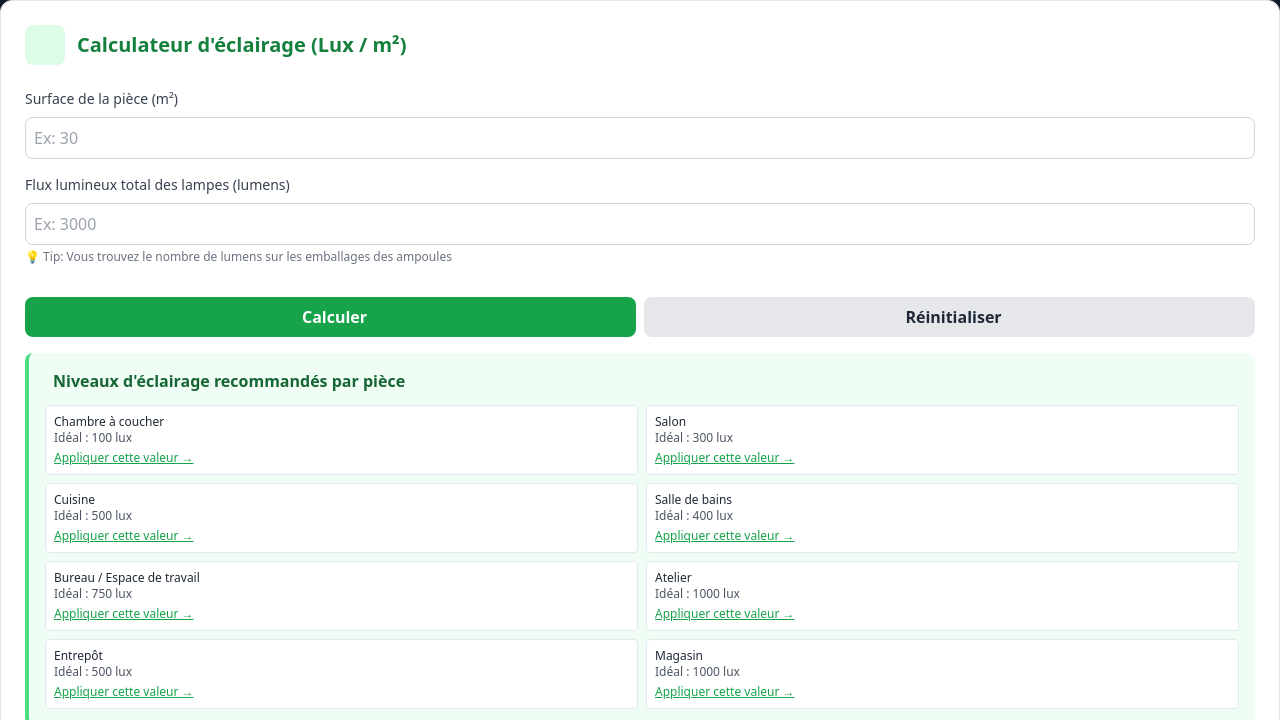
Scenario: LightingCalculator › shows "poor" adequacy for low lux levels
The width and height of the screenshot is (1280, 720).
Step 1. Type "100" into the number field with placeholder "Ex: 30" → (640, 138), box [25,117,1255,159]
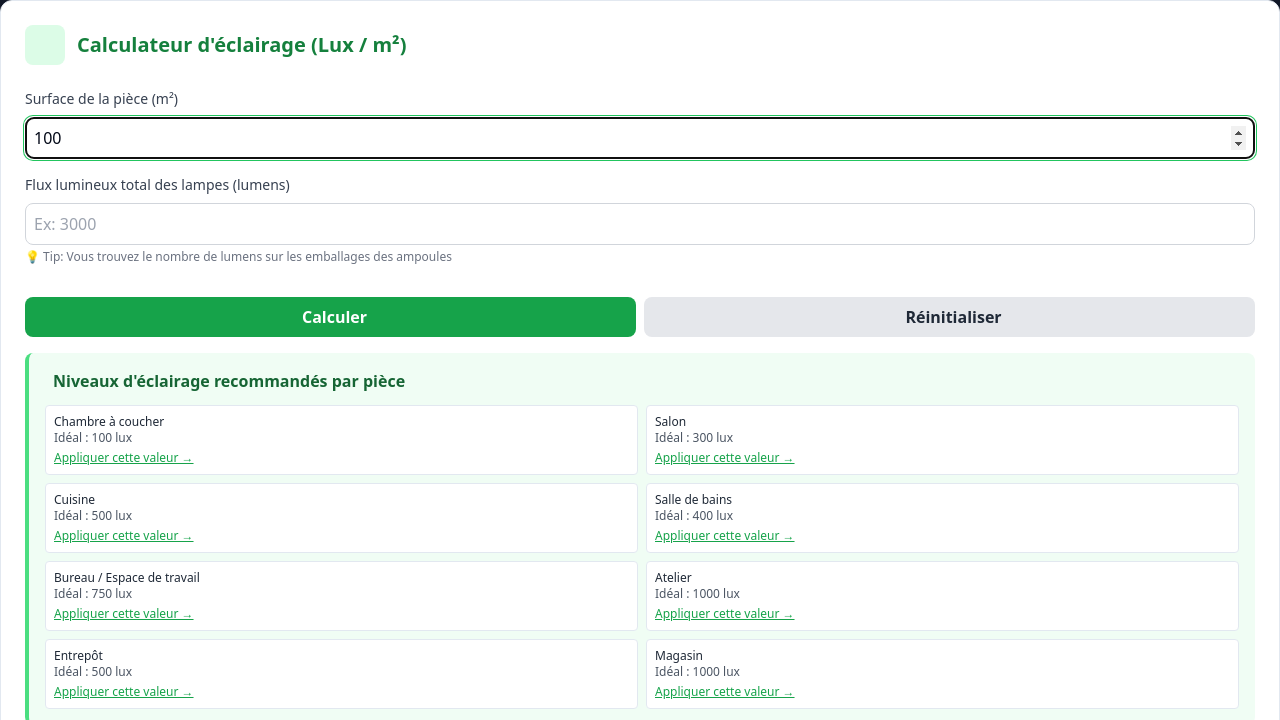
Step 2. Type "100" into the number field with placeholder "Ex: 3000" → (640, 224), box [25,203,1255,245]
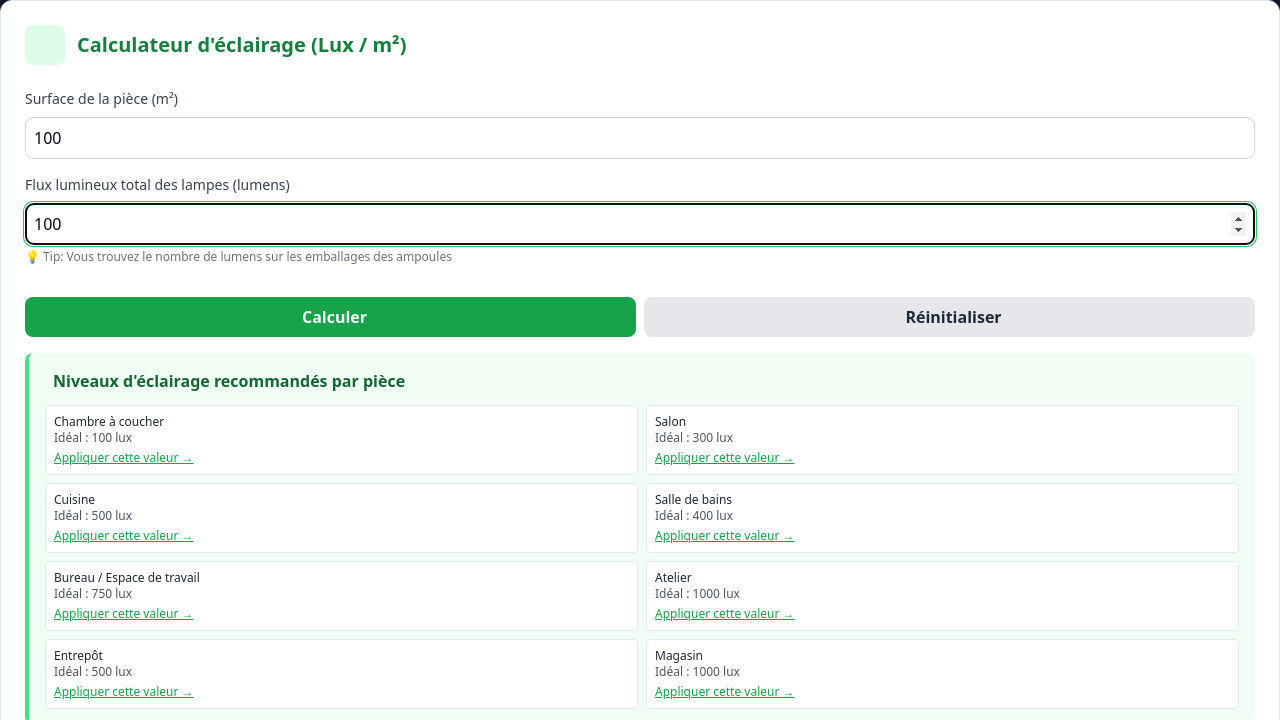
Step 3. Click the button with aria-label "Calculer l'éclairement en lux" → (330, 317), box [25,297,636,337]
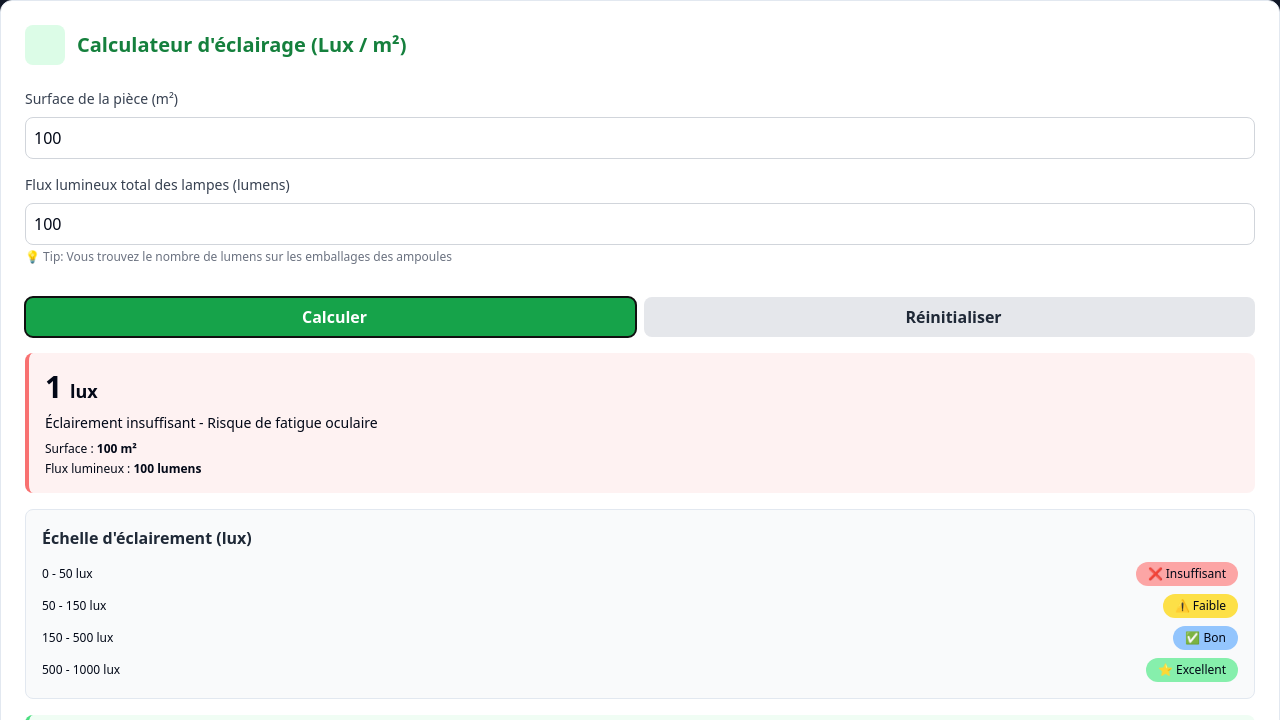
Check: the text "❌ Insuffisant" is shown, box [1136,562,1238,586]
